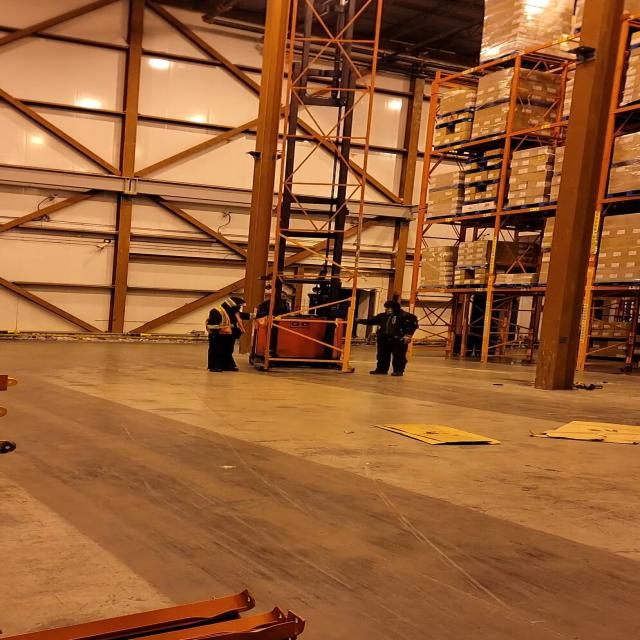forklift: (238, 201, 364, 377)
human: (196, 294, 271, 375), (354, 292, 422, 379), (254, 289, 300, 316)
objectofinterest: (249, 34, 365, 372), (369, 420, 510, 449), (526, 416, 640, 445)
